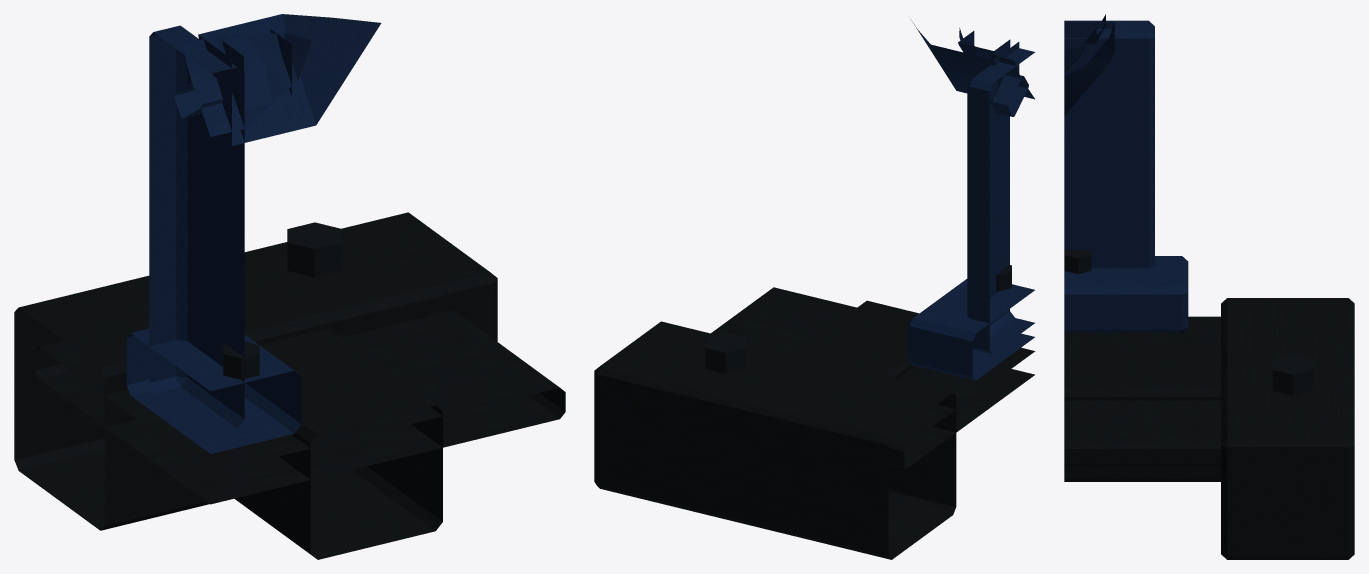
Rendered from cell_5.obj.
3 renders of one model, left to right at view 1: azimuth 30°, elevation 25°; view 2: azimuth 150°, elevation 25°; view 3: azimuth 270°, elevation 25°, orthographic. The views are drawn at different scales.
Visible parts, largest first — view 1: cell_5; view 2: cell_5; view 3: cell_5.
Boxes of the visible parts, box(x1,y1,x2,y2) form: cell_5: box(14, 14, 565, 559); cell_5: box(594, 20, 1035, 559); cell_5: box(1064, 14, 1354, 559).
Size of the model in its own units: 0.76 by 1 by 0.65.
